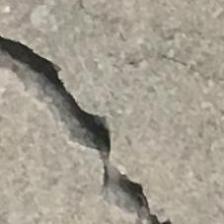Crack: (6, 28, 177, 224)
